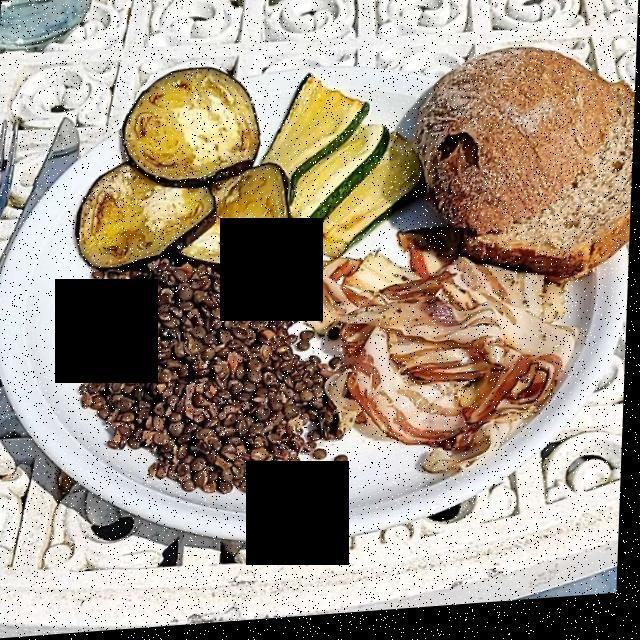bacon: (282, 253, 563, 501)
bread: (411, 65, 635, 283)
eggplant: (89, 62, 295, 279)
lentils: (74, 269, 337, 483)
zucchini: (271, 83, 419, 274)
